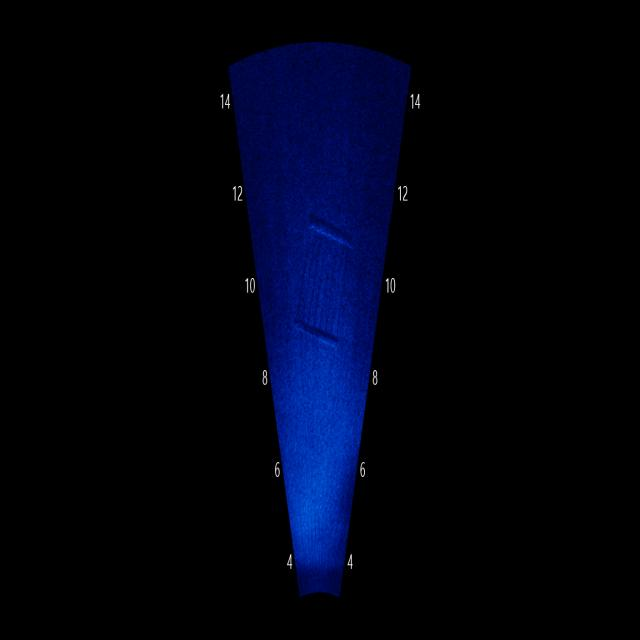square: (286, 207, 360, 357)
